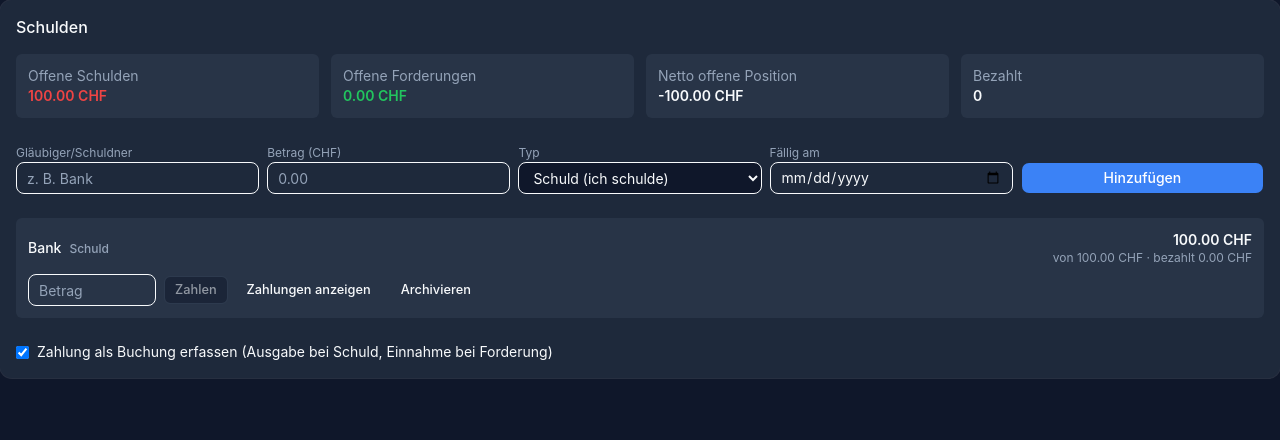
Test: DebtManager › shows the error message of the server
The image size is (1280, 440).
Expected: the text "Bank" is shown, [28, 239, 61, 256]
In the field labelled "Gläubiger/Schuldner": point(138, 178) [16, 162, 259, 194], type "Bank"
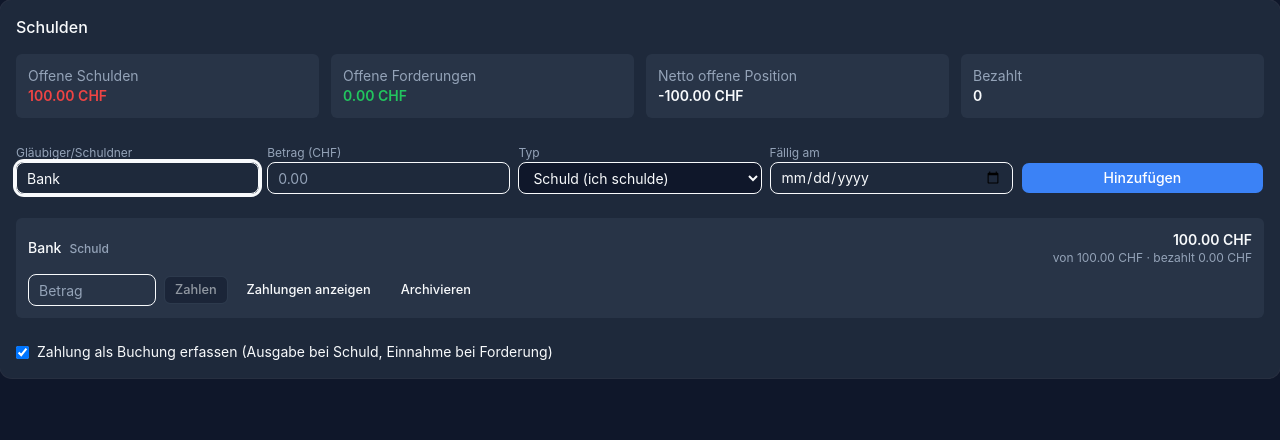
In the field labelled "Betrag (CHF)": point(389, 178) [267, 162, 510, 194], type "10.00"
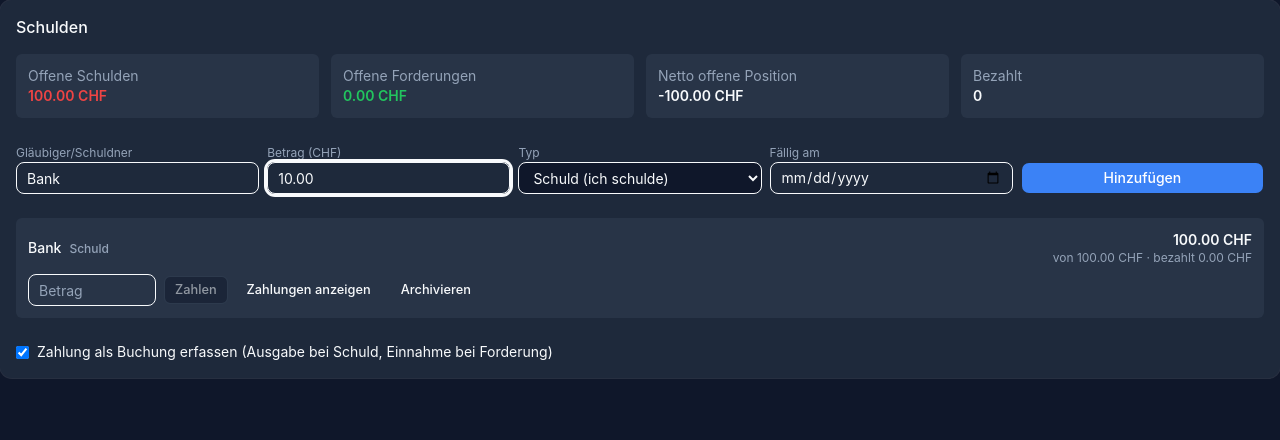
Click the button "Hinzufügen": point(1142, 178) [1021, 162, 1264, 194]
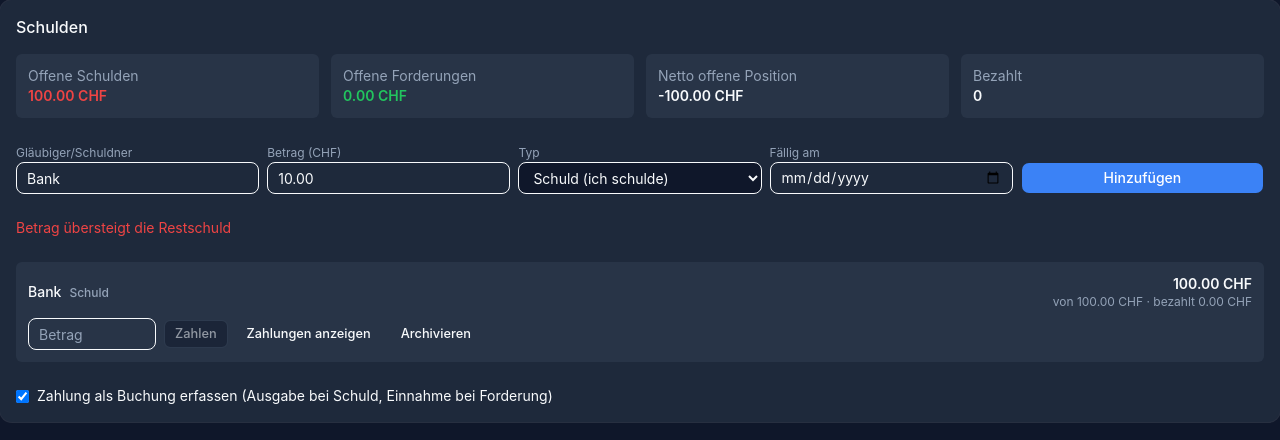
Result: the message reads "Betrag übersteigt die Restschuld" at [16, 219, 231, 236]
